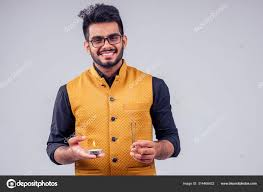Indian_Male: (80, 12, 127, 66)
